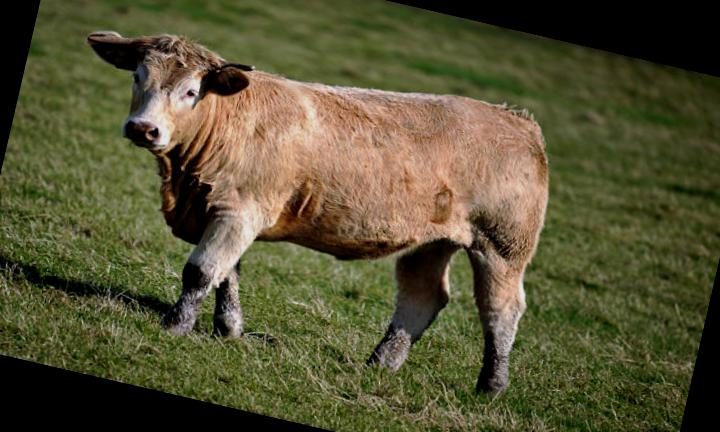Charolais: (88, 32, 549, 394)
